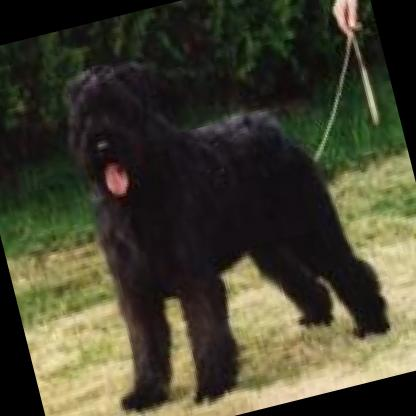Bouvier_des_Flandres: (34, 9, 393, 416)
